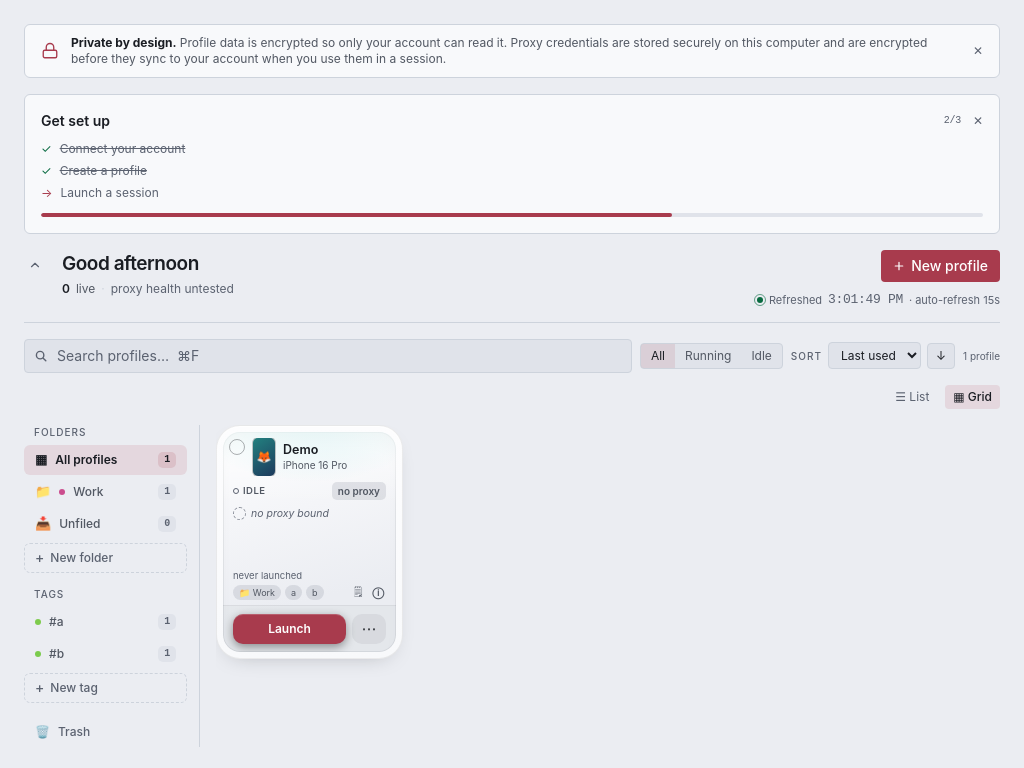
it: ProfilesView profile-lifecycle actions › Storage + Trim › the history action is honest that a profile keeps no browsing history, only remembered tabs
Click the button named "More actions". click: [369, 628]
box: left=352, top=614, right=386, bottom=644
(page scrolled)
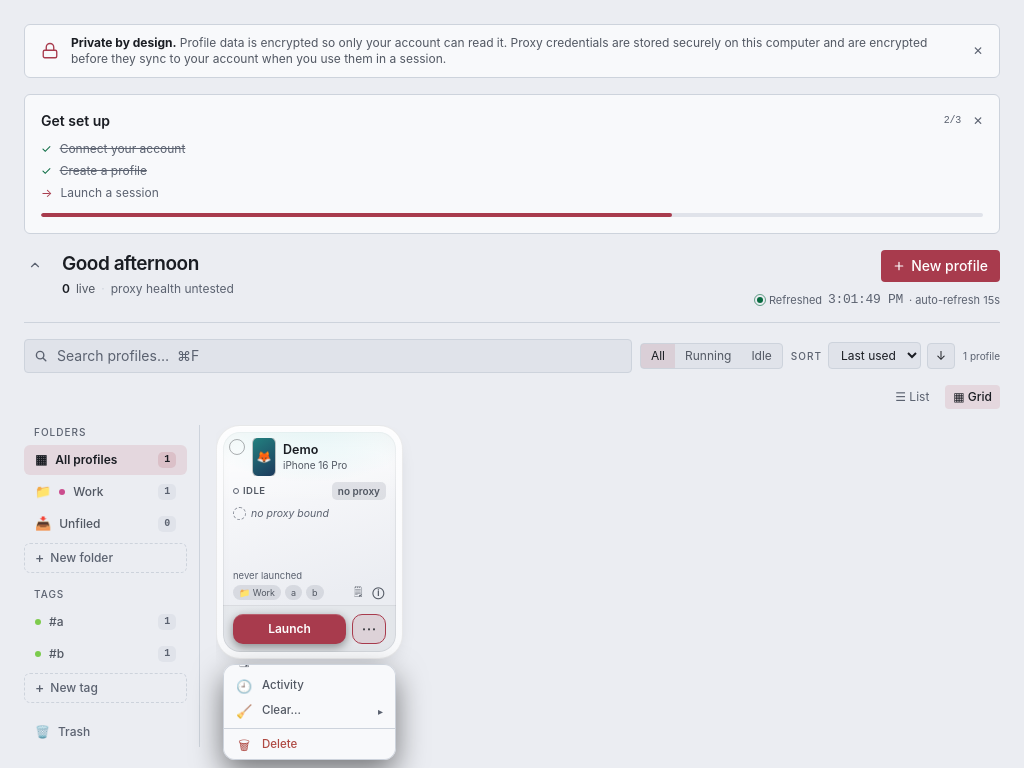
Click the button with aria-label "Clearing options for ". click: [310, 711]
box: left=224, top=698, right=395, bottom=724
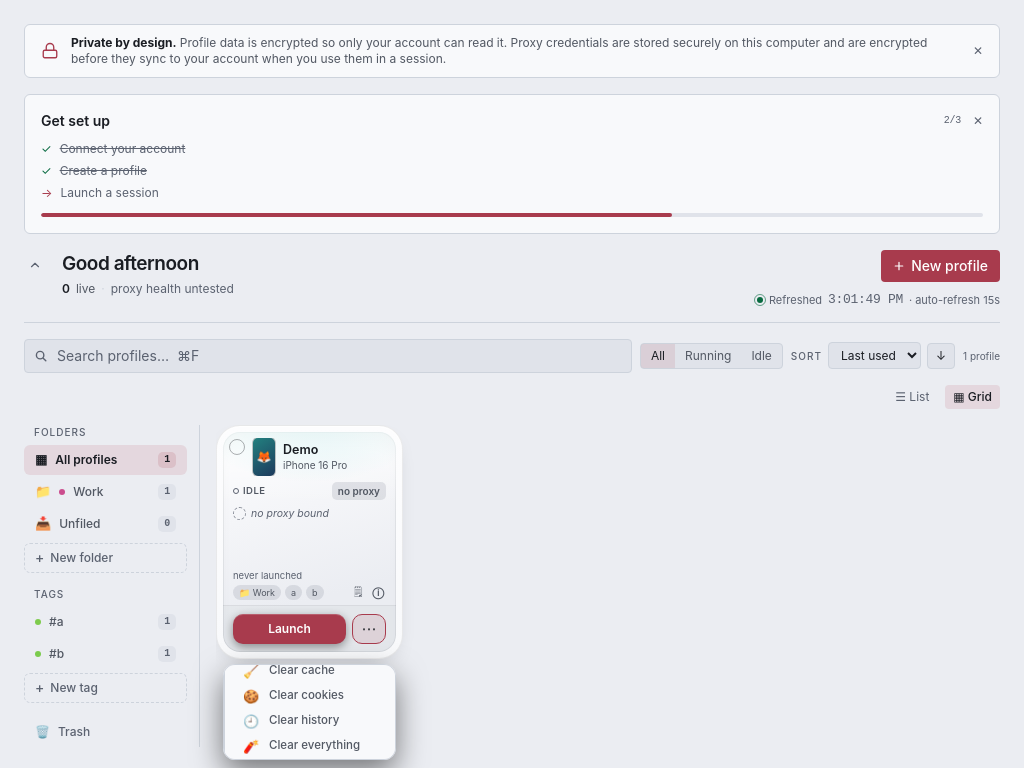
Click the button with aria-label "Clear history for Demo". click: [313, 721]
box: left=231, top=708, right=395, bottom=734
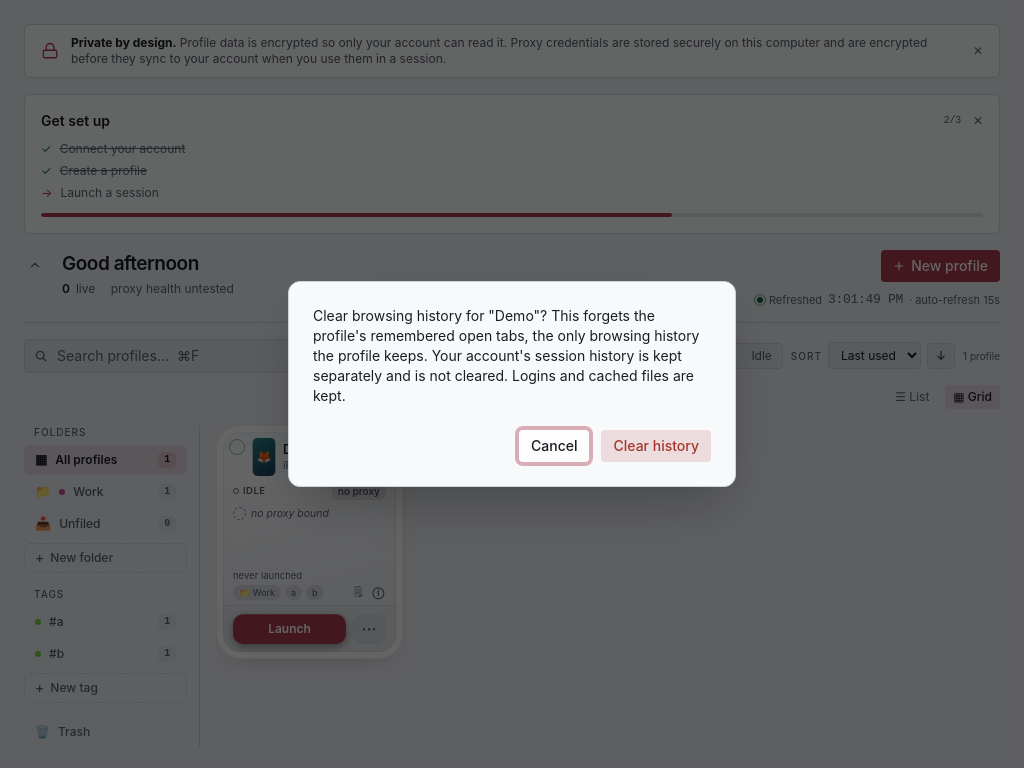
Expected: the text "the only browsing history the profile keeps" shows "session history is kept separately and is not cleared", left=313, top=307, right=700, bottom=404
